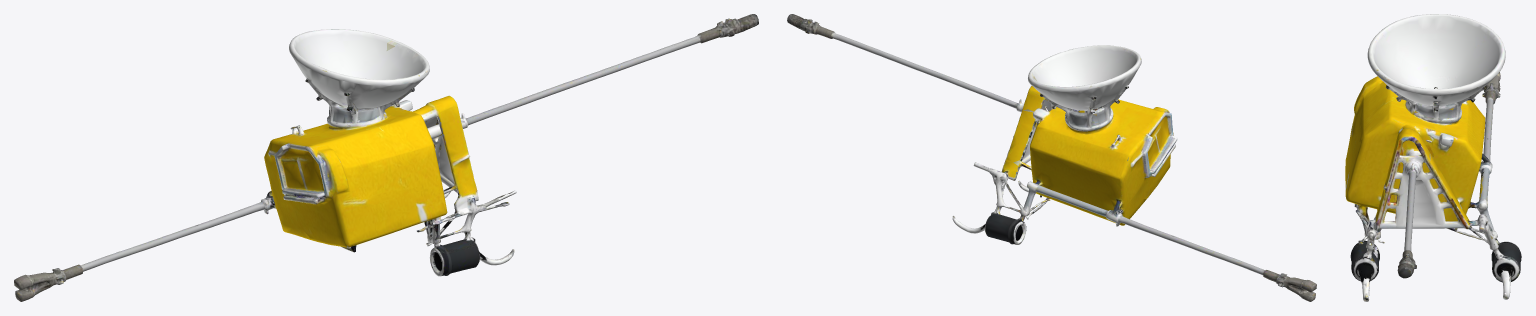
File: dish_probe.glb
3 views of the same model, side by side, from view 1: azimuth 30°, elevation 25°; view 2: azimuth 150°, elevation 25°; view 3: azimuth 270°, elevation 25° (orthographic). The views are drawn at different scales.
Visible parts, largest first — view 1: mesh; view 2: mesh; view 3: mesh.
Part boxes in pixels (x1,y1,x2,y2): mesh: [14, 14, 758, 301]; mesh: [787, 14, 1316, 301]; mesh: [1345, 14, 1521, 301].
Size of the model in its own units: 0.3 by 0.0902 by 0.0685.
Materials: 1 (1 with a texture image).
